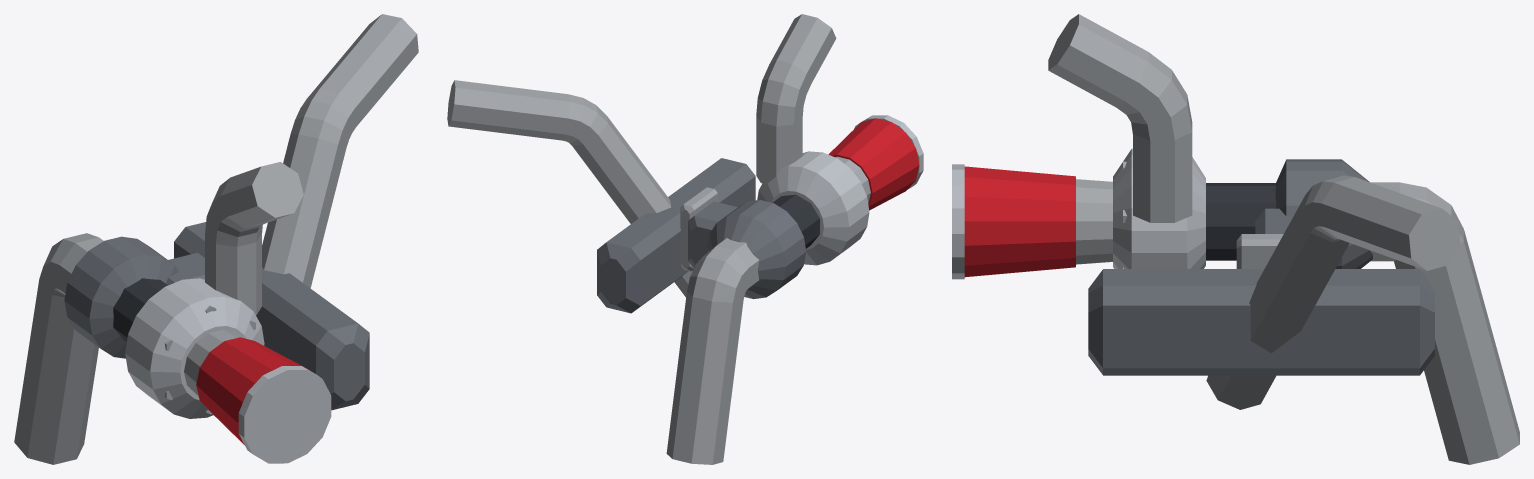
Rendered from kaze_gt.glb.
The picture shows the model from 3 angles, left to right: view 1: azimuth 30°, elevation 25°; view 2: azimuth 150°, elevation 25°; view 3: azimuth 270°, elevation 25°; orthographic projection. The views are drawn at different scales.
Parts seen in each view (by area): view 1: model; view 2: model; view 3: model.
Part boxes in pixels (<box>): model: <box>14,14,418,464</box>; model: <box>447,14,923,464</box>; model: <box>952,14,1519,464</box>.
Size of the model in its own units: 0.4099 by 0.4073 by 0.4587.
Materials: 2 (1 with a texture image).
